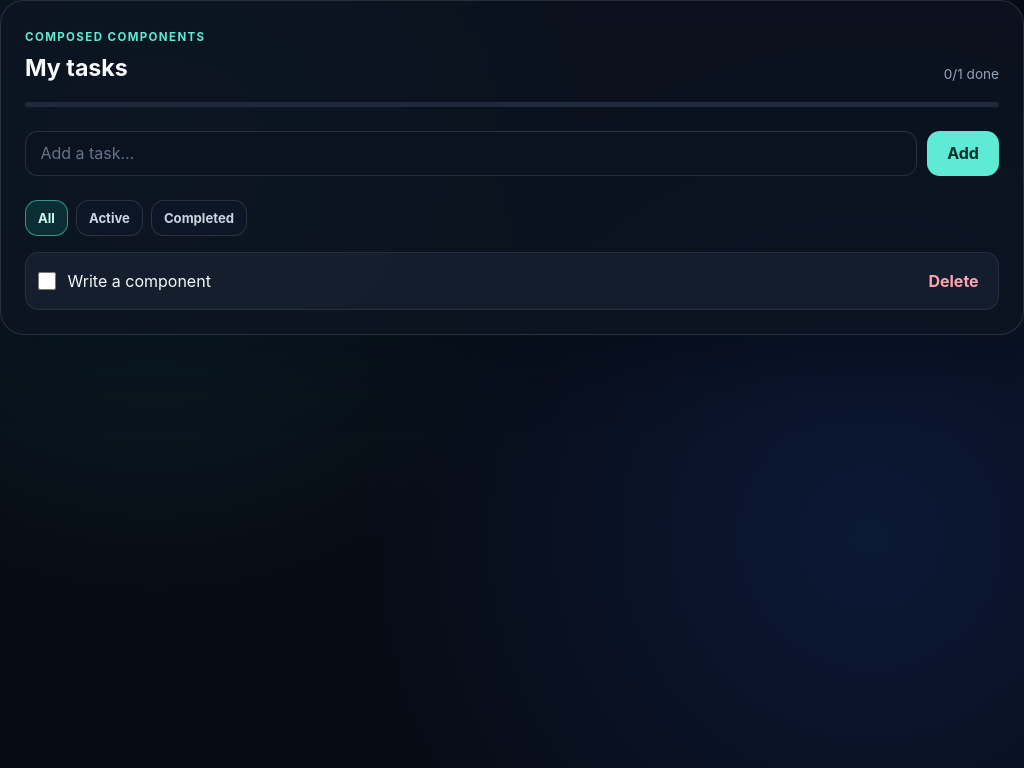
Scenario: TodoList › adds, toggles, and deletes tasks
Type "Test the component" into the field named "New task".
click(471, 153); type("Test the component")  # box [25,131,917,176]
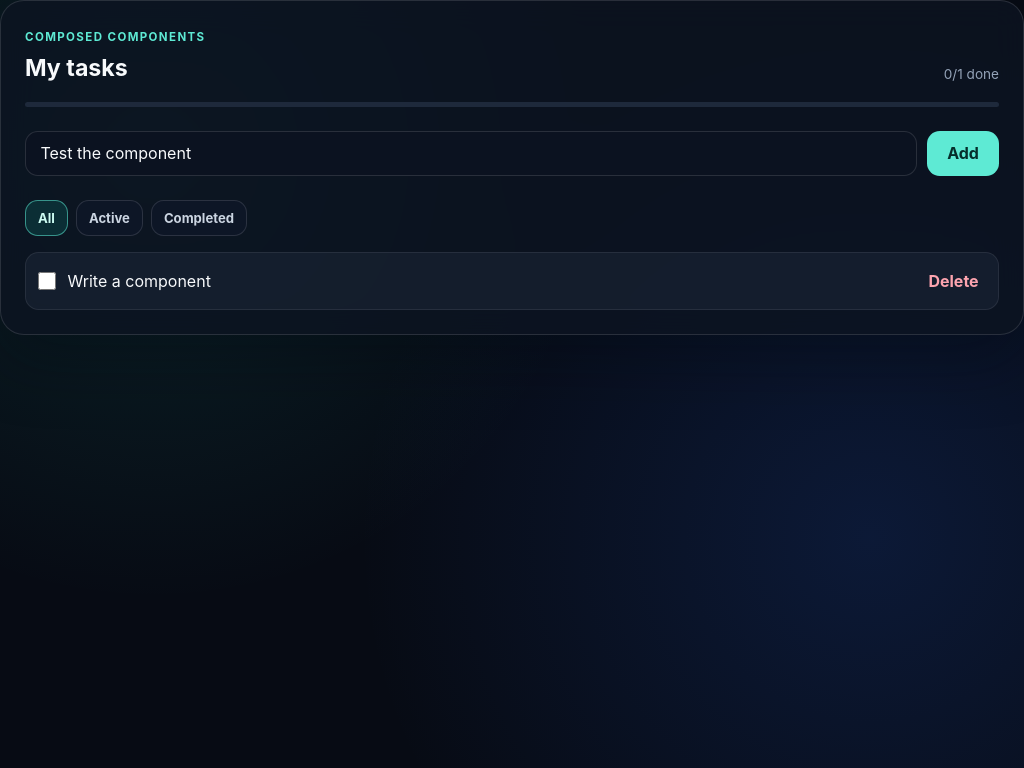
Click the button "Add".
click(963, 153)  # box [927,131,999,176]
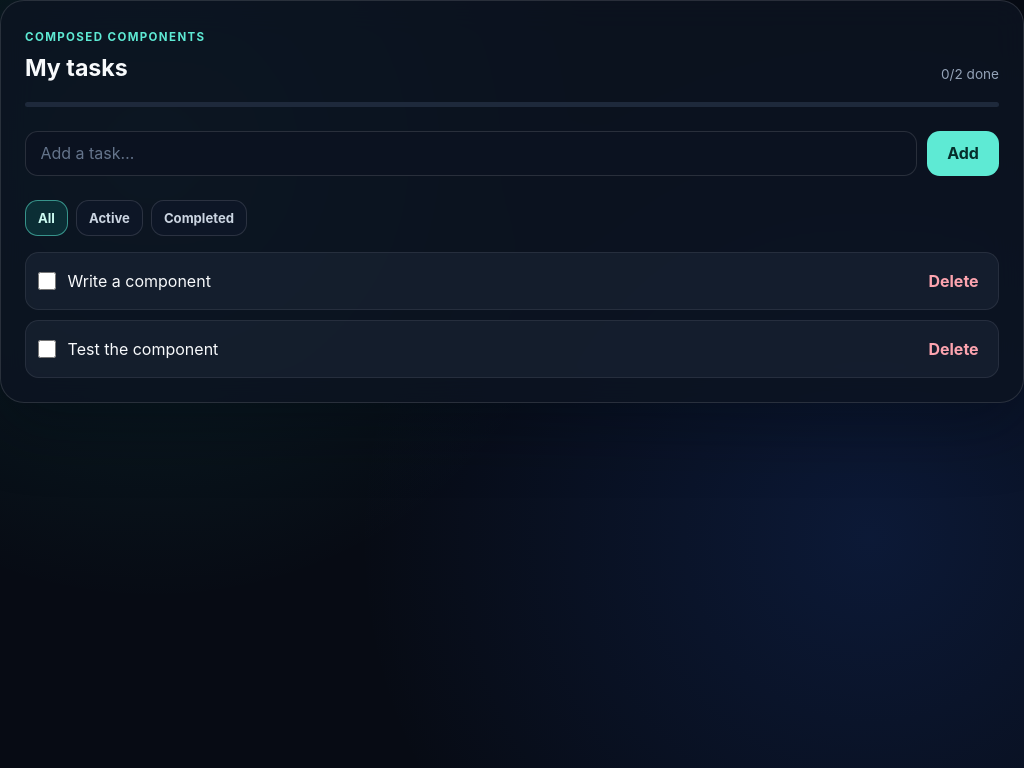
Expected: the text "Test the component" is shown, [68,339,218,359]
Expected: the text "0/2 done" is shown, [941,66,999,82]
Click the checkbox labelled "Write a component".
click(47, 281)  # box [38,272,56,290]
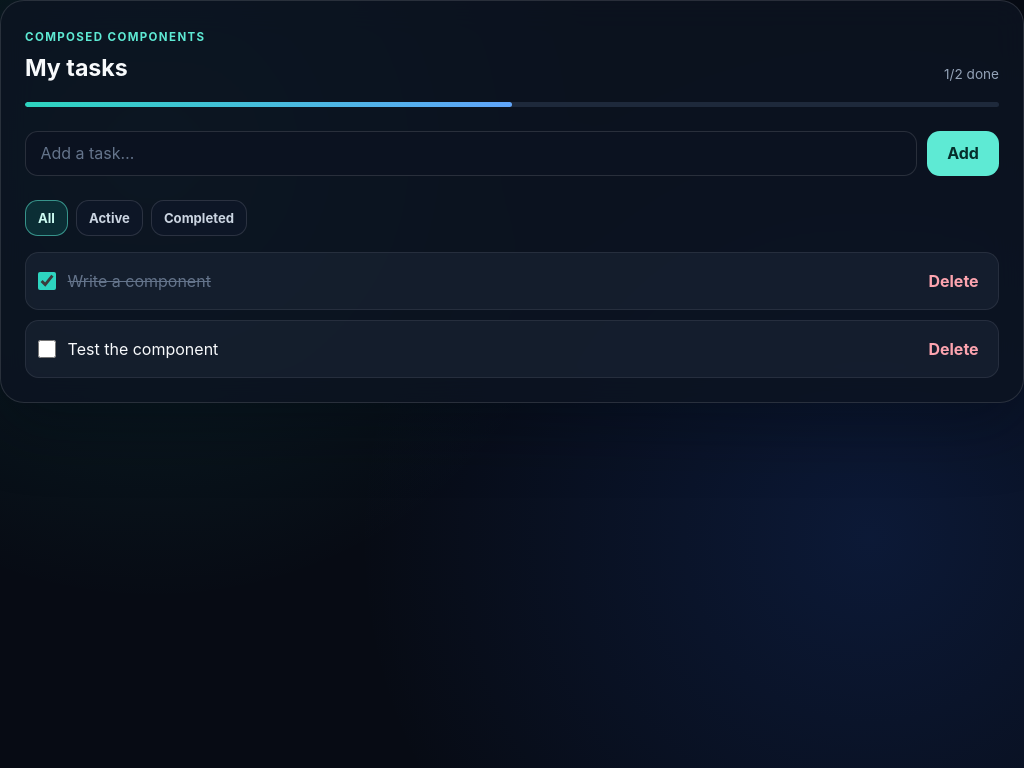
Expected: the text "1/2 done" is shown, [944,66,999,82]
Click the button with aria-label "Delete Write a component".
click(954, 281)  # box [921,264,986,298]
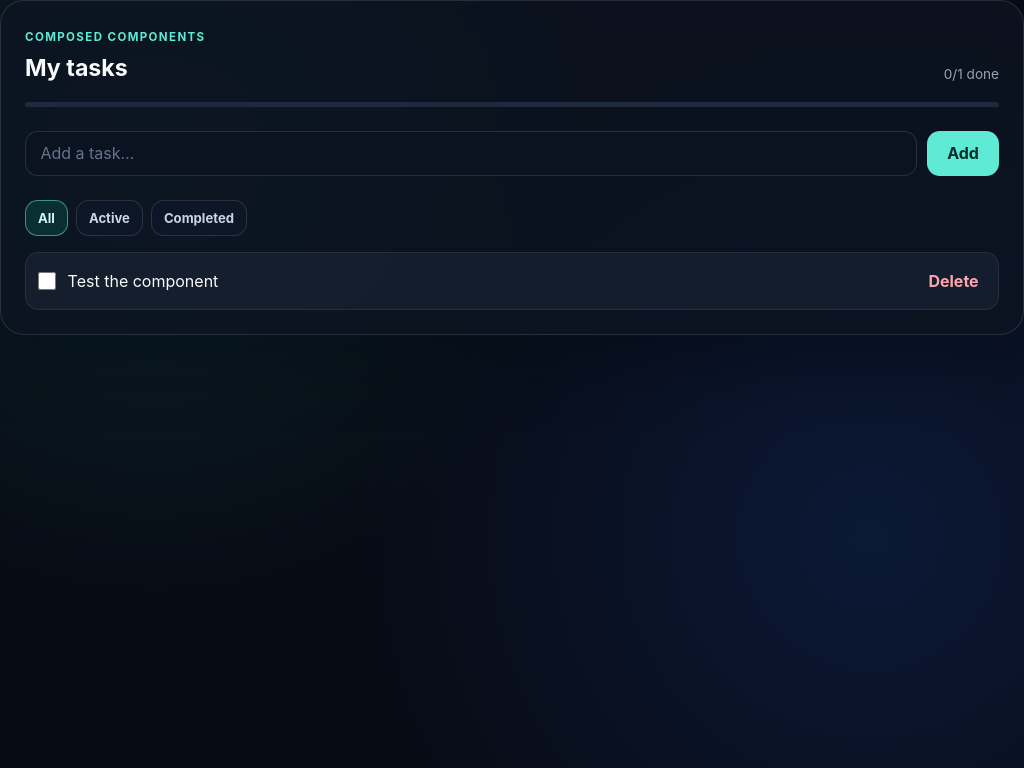
Expected: the text "Write a component" is gone
